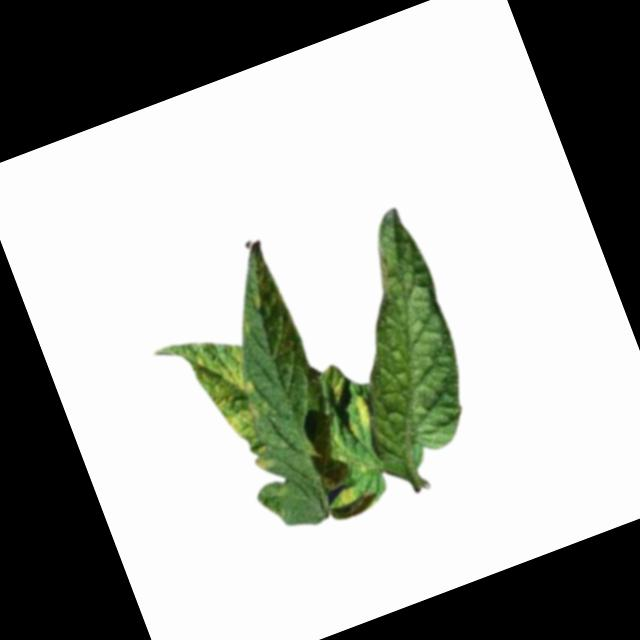Leaf_Mold: (185, 331, 286, 482), (341, 391, 380, 444), (320, 363, 351, 402)
